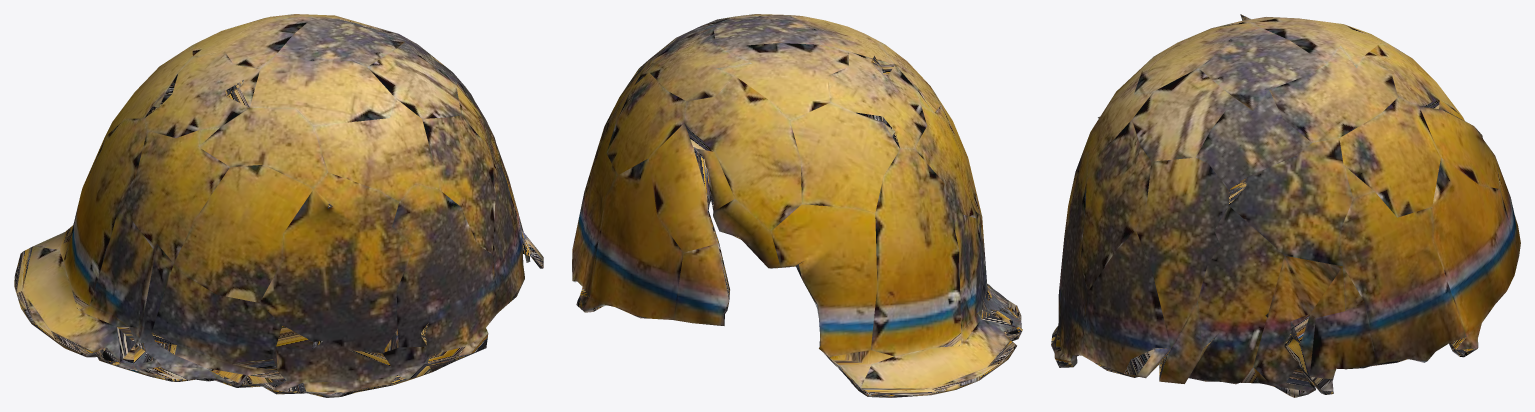
File: wear-rustyhat.glb
The picture shows the model from 3 angles, left to right: view 1: azimuth 30°, elevation 25°; view 2: azimuth 150°, elevation 25°; view 3: azimuth 270°, elevation 25°; orthographic projection. The views are drawn at different scales.
Parts seen in each view (by area): view 1: scan-0; view 2: scan-0; view 3: scan-0.
Boxes of the visible parts, x1,y1,x2,y2 form: scan-0: (14, 14, 543, 397); scan-0: (572, 14, 1022, 397); scan-0: (1051, 14, 1520, 397).
Size of the model in its own units: 0.378 by 0.2387 by 0.3382.
Materials: 1 (1 with a texture image).
